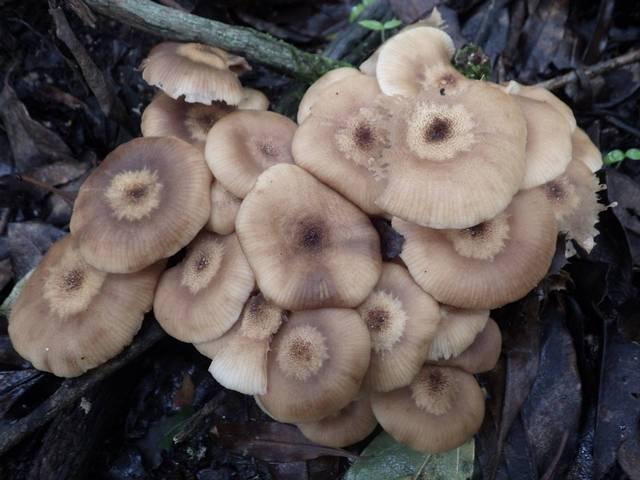Edible Mushroom: (5, 23, 607, 454)
